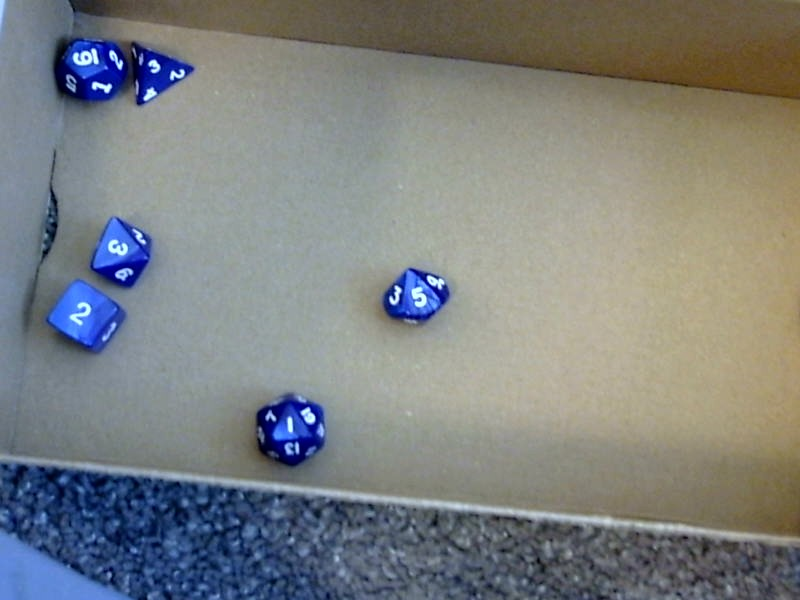d10 5: (381, 260, 450, 327)
d12 6: (54, 30, 125, 105)
d20 1: (249, 389, 328, 466)
d4 3: (128, 31, 195, 108)
d6 2: (40, 277, 125, 358)
d8 3: (89, 215, 153, 289)
